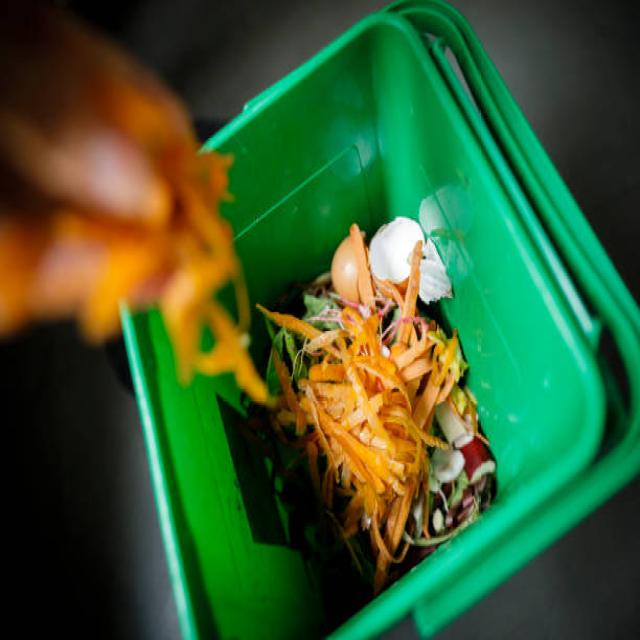trash: (218, 290, 474, 502)
